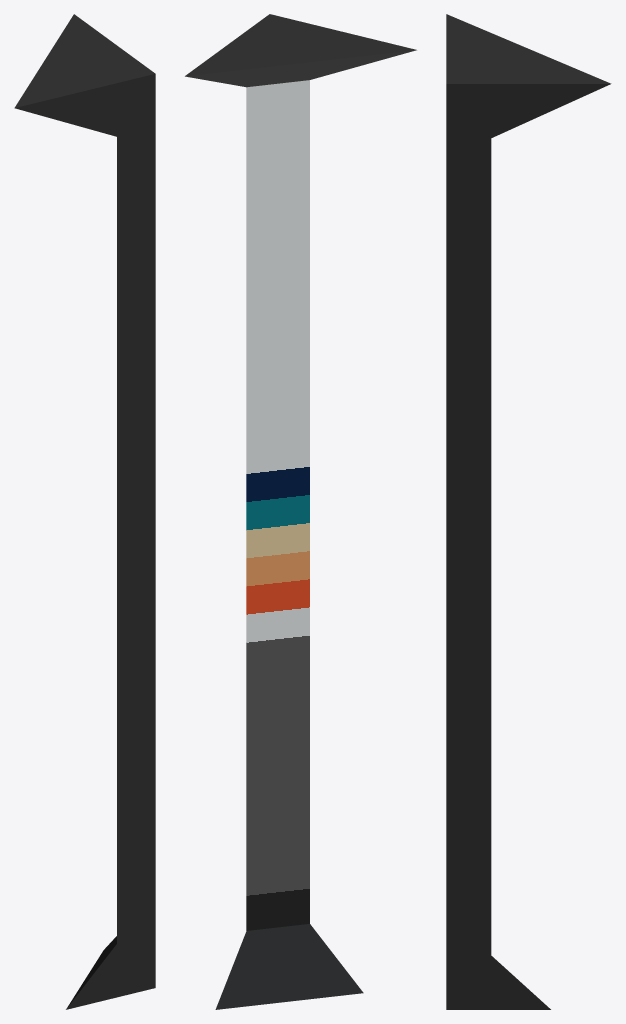
The model's file is CalShipWallSmallCorner.gltf.
3 renders of one model, left to right at view 1: azimuth 30°, elevation 25°; view 2: azimuth 150°, elevation 25°; view 3: azimuth 270°, elevation 25°, orthographic. The views are drawn at different scales.
Parts seen in each view (by area): view 1: mesh; view 2: mesh; view 3: mesh.
Boxes of the visible parts, x1=… form: mesh: x1=14, y1=14, x2=155, y2=1009; mesh: x1=185, y1=14, x2=416, y2=1009; mesh: x1=446, y1=14, x2=611, y2=1009.
Size of the model in its own units: 0.3438 by 2.12 by 0.3438.
1 material, 1 textured.
